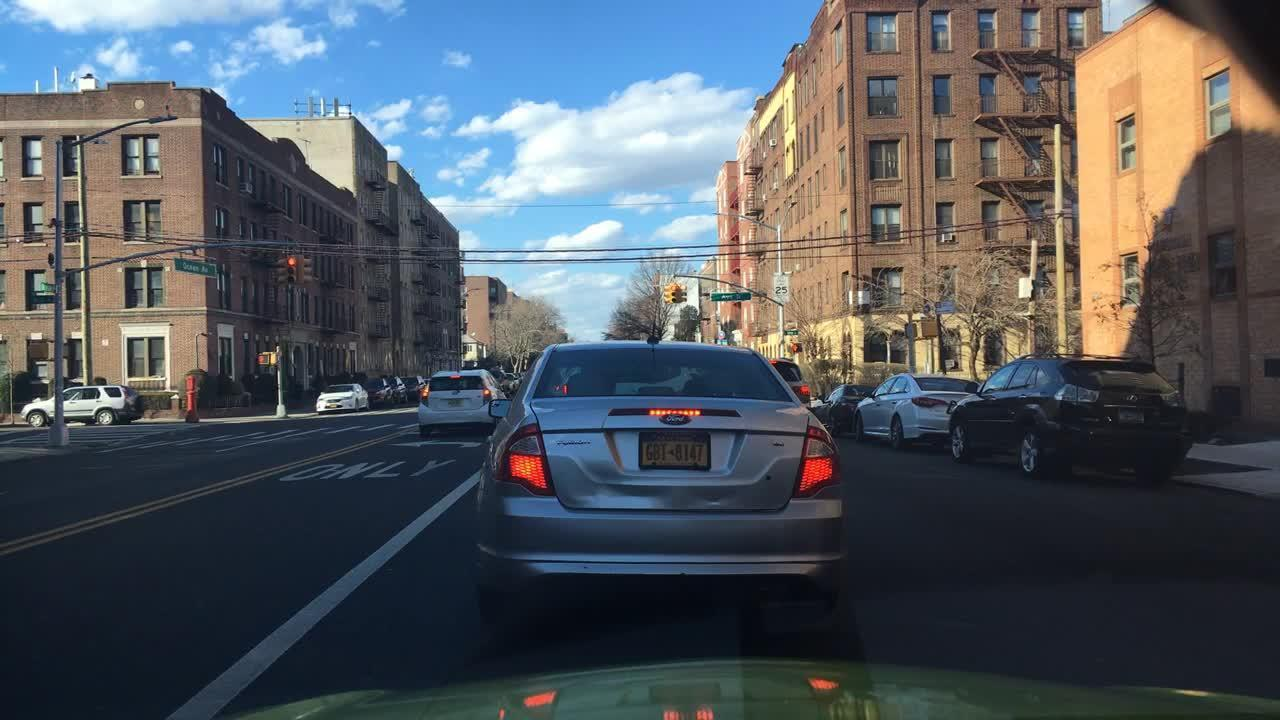ford: (659, 412, 695, 429)
lexus: (1124, 392, 1139, 407)
